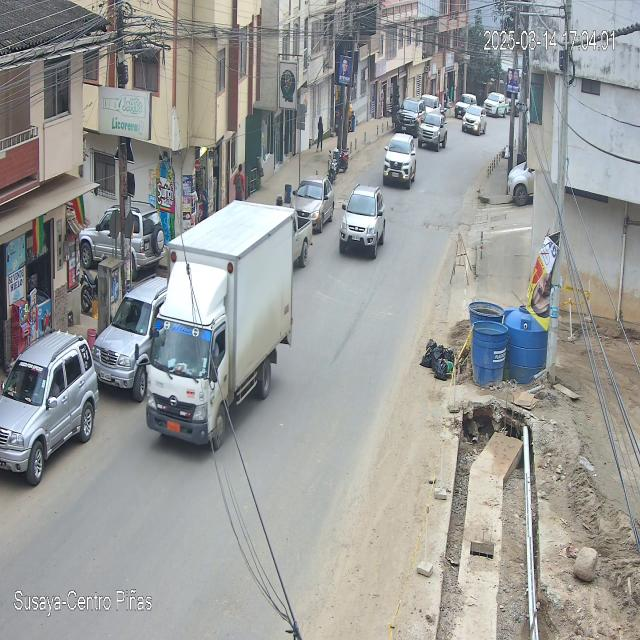SUV: (0, 333, 99, 486), (340, 183, 386, 260)
TRUCK: (146, 201, 298, 452)
